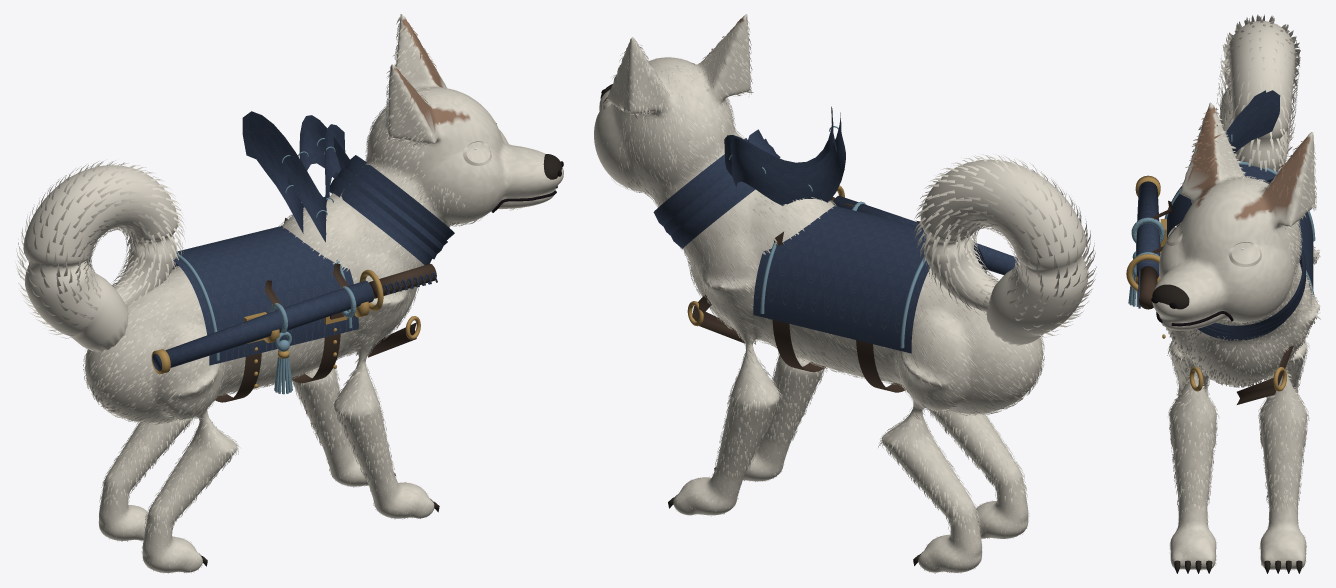
File: 05_Haku.glb
3 renders of one model, left to right at view 1: azimuth 30°, elevation 25°; view 2: azimuth 150°, elevation 25°; view 3: azimuth 270°, elevation 25°, orthographic. The views are drawn at different scales.
Visible parts, largest first — view 1: ANATOMY | unified canine skin, FUR | groomed tapered surface clumps, ANATOMY | sculpted tail, TACK | fitted saddle cloth, FUR | directional tail plume, WEAPON | dark lacquer scabbard, CLOTH | trailing scarf panel 0, CLOTH | trailing scarf panel 1, CLOTH | layered neck scarf.002, CLOTH | layered neck scarf, CLOTH | layered neck scarf.001, WEAPON | sword grip (+2 smaller); view 2: ANATOMY | unified canine skin, FUR | groomed tapered surface clumps, ANATOMY | sculpted tail, TACK | fitted saddle cloth, FUR | directional tail plume, CLOTH | trailing scarf panel 0, CLOTH | layered neck scarf, CLOTH | layered neck scarf.002, WEAPON | dark lacquer scabbard, CLOTH | layered neck scarf.001, CLOTH | trailing scarf panel 1, TACK | shaped belly girth.001 (+2 smaller); view 3: ANATOMY | unified canine skin, FUR | groomed tapered surface clumps, ANATOMY | sculpted tail, FUR | directional tail plume, CLOTH | trailing scarf panel 1, TACK | fitted saddle cloth, WEAPON | dark lacquer scabbard, CLOTH | layered neck scarf, TACK | chest harness strap.001, WEAPON | sword grip, FACE | shaped leather nose, CLOTH | layered neck scarf.002 (+2 smaller).
Part boxes in pixels (<box>): ANATOMY | unified canine skin: <box>85,14,563,572</box>; FUR | groomed tapered surface clumps: <box>83,16,521,573</box>; ANATOMY | sculpted tail: <box>23,165,178,352</box>; TACK | fitted saddle cloth: <box>172,226,358,365</box>; FUR | directional tail plume: <box>15,160,185,338</box>; WEAPON | dark lacquer scabbard: <box>152,280,373,371</box>; CLOTH | trailing scarf panel 0: <box>249,115,350,233</box>; CLOTH | trailing scarf panel 1: <box>242,111,345,242</box>; CLOTH | layered neck scarf.002: <box>329,176,440,265</box>; CLOTH | layered neck scarf: <box>345,155,454,250</box>; CLOTH | layered neck scarf.001: <box>338,167,447,259</box>; WEAPON | sword grip: <box>369,263,436,298</box>; ANATOMY | unified canine skin: <box>594,14,1042,572</box>; FUR | groomed tapered surface clumps: <box>596,20,1044,573</box>; ANATOMY | sculpted tail: <box>920,159,1088,345</box>; TACK | fitted saddle cloth: <box>753,206,986,353</box>; FUR | directional tail plume: <box>914,154,1096,337</box>; CLOTH | trailing scarf panel 0: <box>731,112,845,205</box>; CLOTH | layered neck scarf: <box>653,129,772,226</box>; CLOTH | layered neck scarf.002: <box>671,148,775,248</box>; WEAPON | dark lacquer scabbard: <box>833,195,1018,274</box>; CLOTH | layered neck scarf.001: <box>663,138,780,235</box>; CLOTH | trailing scarf panel 1: <box>724,106,837,175</box>; TACK | shaped belly girth.001: <box>772,320,825,372</box>; ANATOMY | unified canine skin: <box>1152,102,1319,569</box>; FUR | groomed tapered surface clumps: <box>1160,108,1320,570</box>; ANATOMY | sculpted tail: <box>1220,21,1295,170</box>; FUR | directional tail plume: <box>1216,14,1300,172</box>; CLOTH | trailing scarf panel 1: <box>1225,90,1280,183</box>; TACK | fitted saddle cloth: <box>1167,160,1313,294</box>; WEAPON | dark lacquer scabbard: <box>1136,181,1159,278</box>; CLOTH | layered neck scarf: <box>1206,245,1305,333</box>; TACK | chest harness strap.001: <box>1237,346,1293,404</box>; WEAPON | sword grip: <box>1139,266,1157,309</box>; FACE | shaped leather nose: <box>1152,284,1189,309</box>; CLOTH | layered neck scarf.002: <box>1197,259,1305,340</box>.
Bounding box in the file's own units: 1.44 × 1.22 × 0.4691.
9 materials, 1 textured.
